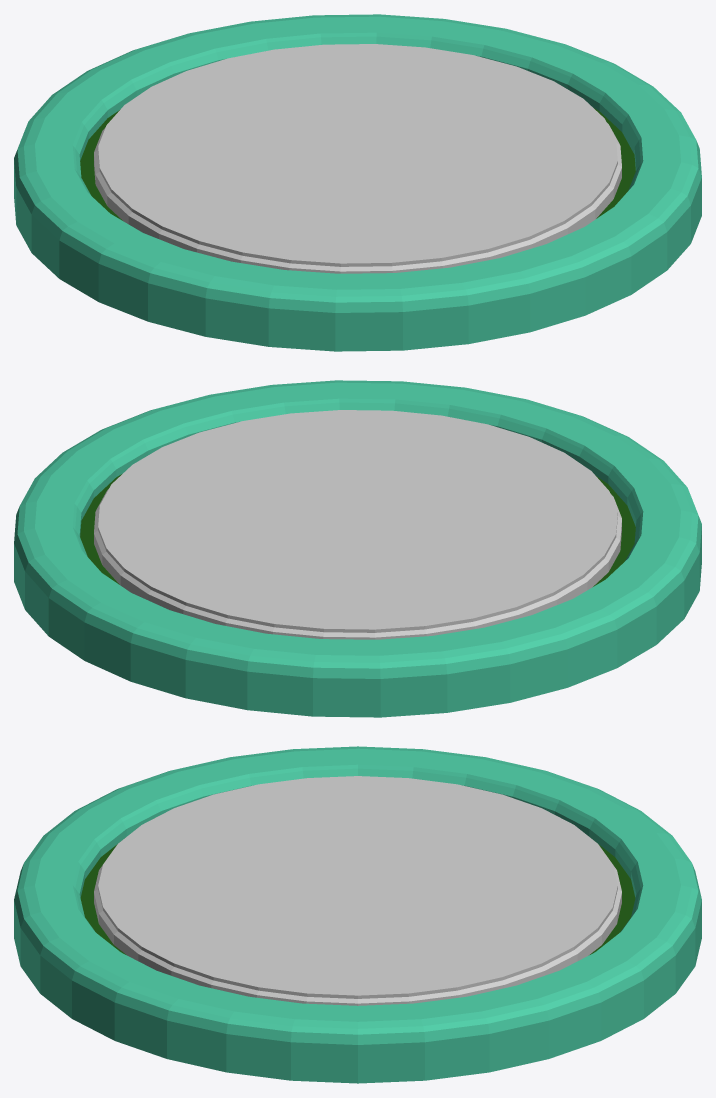
The model's file is Platform.obj.
The picture shows the model from 3 angles, top to bottom: view 1: azimuth 30°, elevation 25°; view 2: azimuth 150°, elevation 25°; view 3: azimuth 270°, elevation 25°; orthographic projection.
Visible parts, largest first — view 1: Cylinder; view 2: Cylinder; view 3: Cylinder.
Part boxes in pixels (x1=…): Cylinder: x1=14, y1=14, x2=701, y2=351; Cylinder: x1=14, y1=380, x2=701, y2=717; Cylinder: x1=14, y1=746, x2=701, y2=1083.
Size of the model in its own units: 5.75 by 0.4869 by 5.75.
